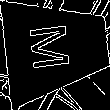M_E: (31, 22, 82, 74)
